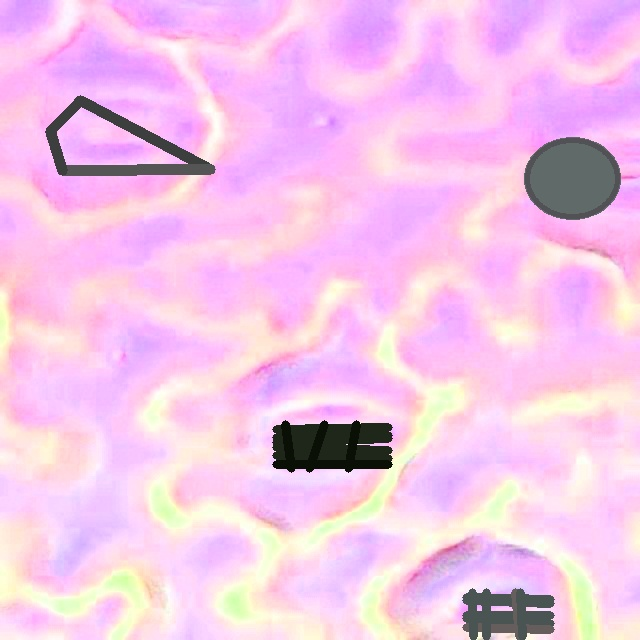close: (46, 95, 214, 175)
open: (523, 137, 620, 220), (272, 421, 391, 471), (463, 588, 553, 639)
